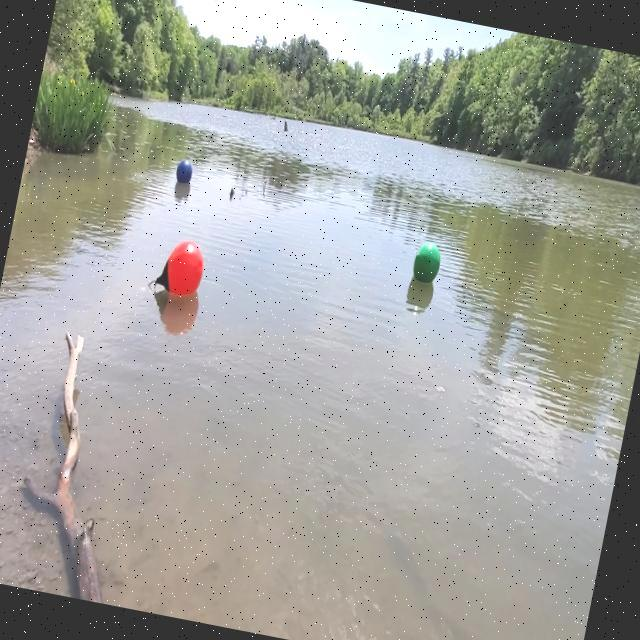buoy: (145, 233, 209, 305), (408, 235, 448, 292), (171, 157, 197, 189)
